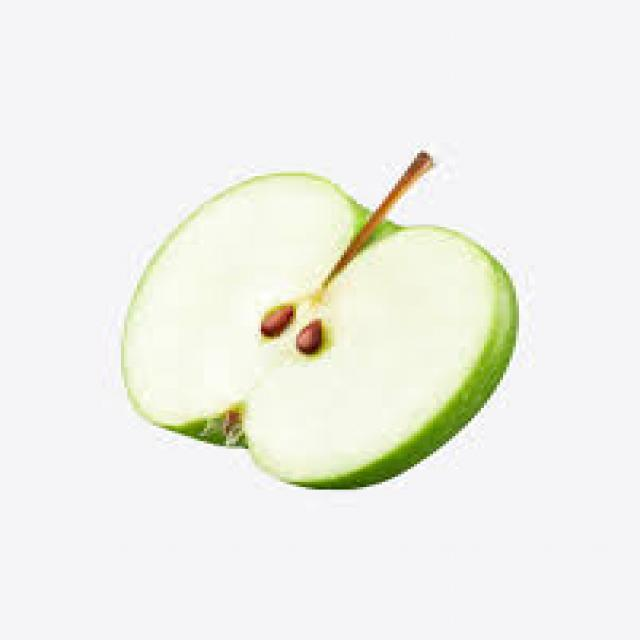Apple: (120, 172, 523, 492)
